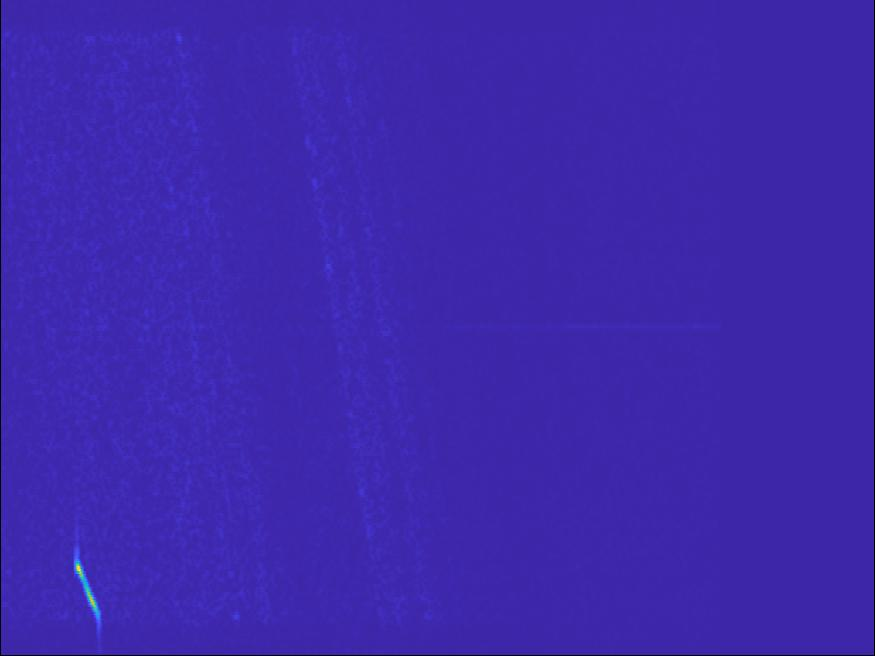Interference: (403, 181, 529, 227)
